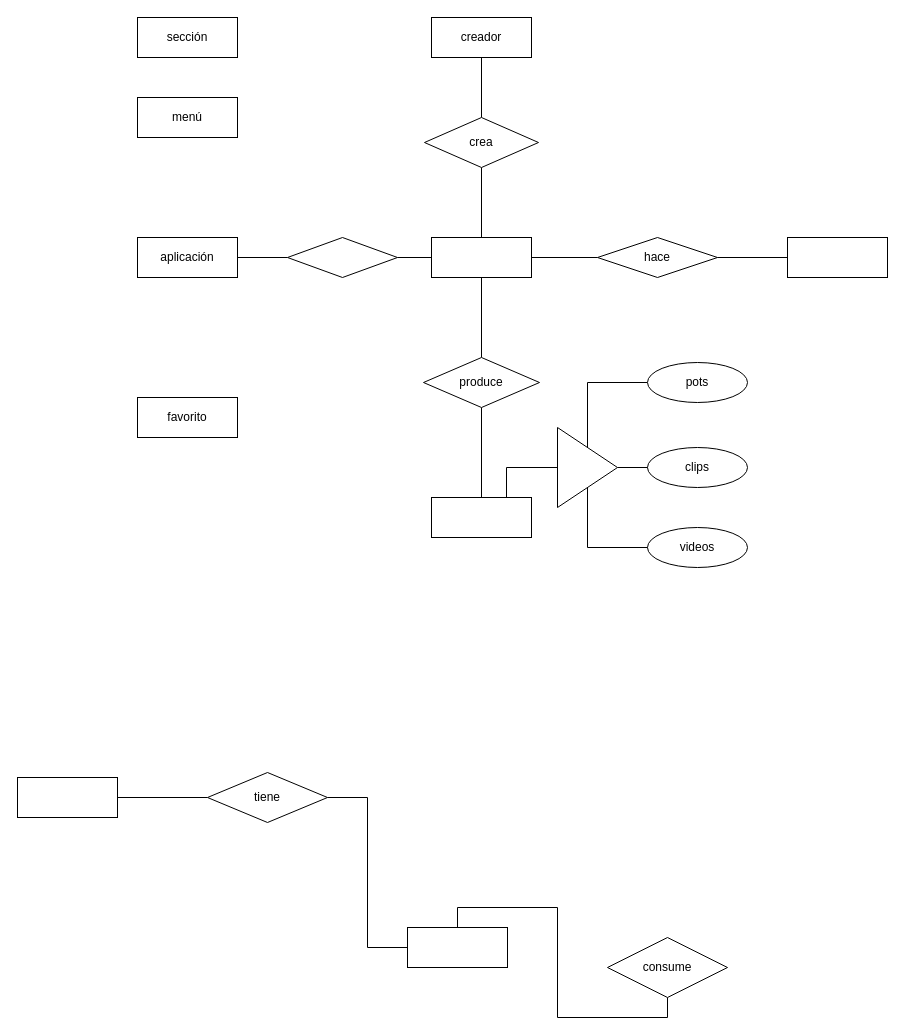
The diagram is 905 pixels wide and 1036 high, and some of its shapes have lost their labels. The shapes that lost their labels are listed below. From the top down, each one's centre as x and y in pixels, then its label:
At pixel 342 257: "añade".
At pixel 481 257: "perfil".
At pixel 837 257: "publicación".
At pixel 481 517: "contenido".
At pixel 67 797: "subcripción".
At pixel 457 947: "usuario".
